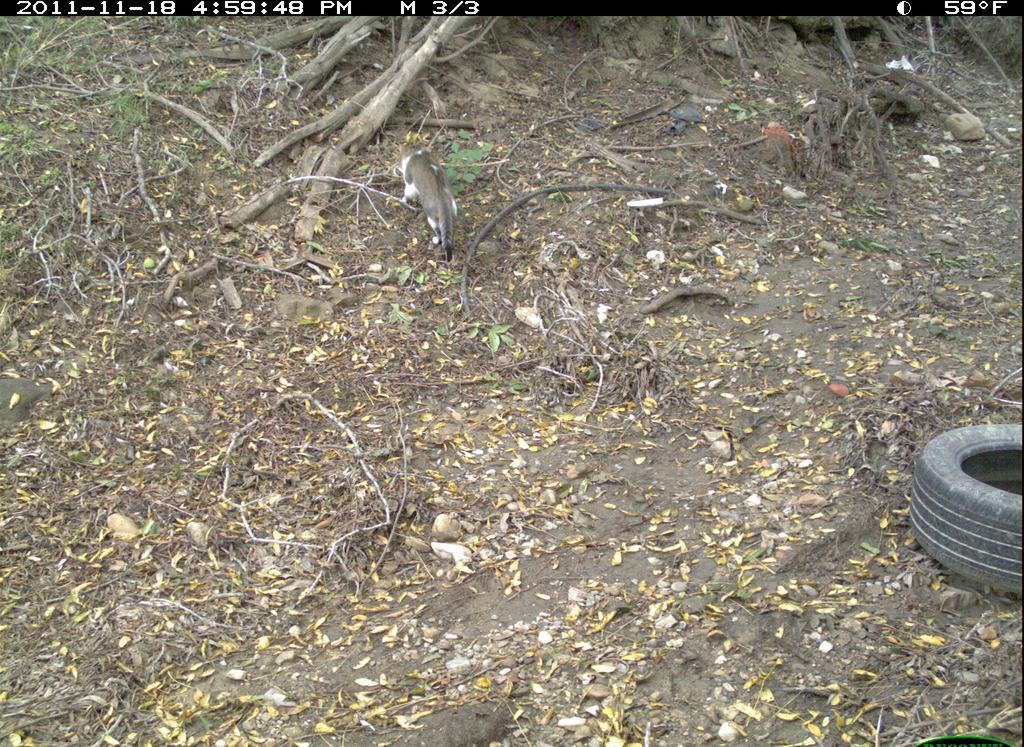cat: (379, 140, 488, 272)
